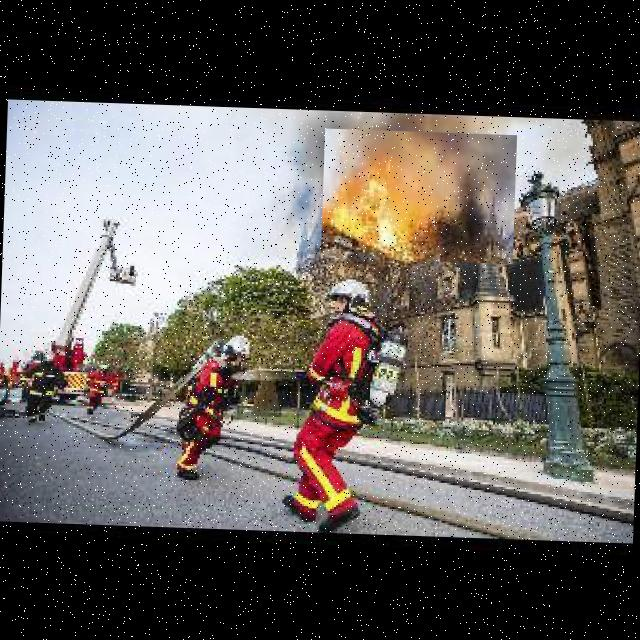fire: (320, 128, 516, 264)
